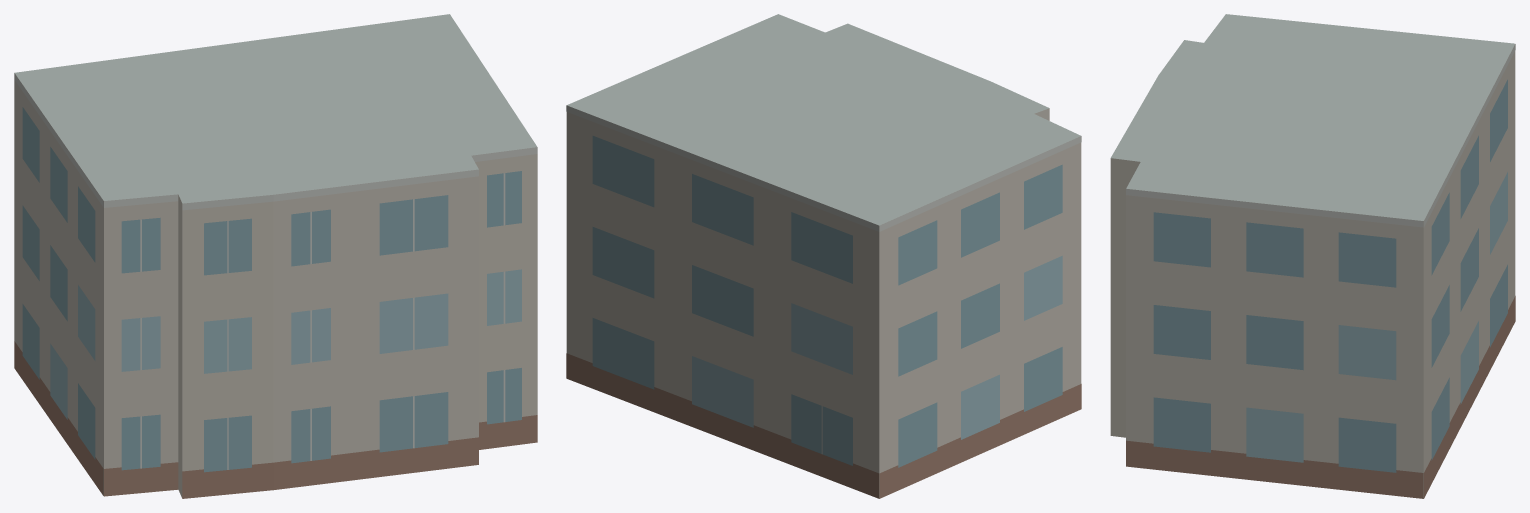
The model's file is survey-upis-32491305.glb.
3 renders of one model, left to right at view 1: azimuth 30°, elevation 25°; view 2: azimuth 150°, elevation 25°; view 3: azimuth 270°, elevation 25°, orthographic. The views are drawn at different scales.
Parts seen in each view (by area): view 1: survey-upis-32491305.tmp; view 2: survey-upis-32491305.tmp; view 3: survey-upis-32491305.tmp.
Boxes of the visible parts, bbox=[...] form: survey-upis-32491305.tmp: bbox=[14, 14, 537, 498]; survey-upis-32491305.tmp: bbox=[566, 14, 1081, 498]; survey-upis-32491305.tmp: bbox=[1110, 14, 1515, 498].
Bounding box in the file's own units: 16.8 × 10.5 × 13.88.
